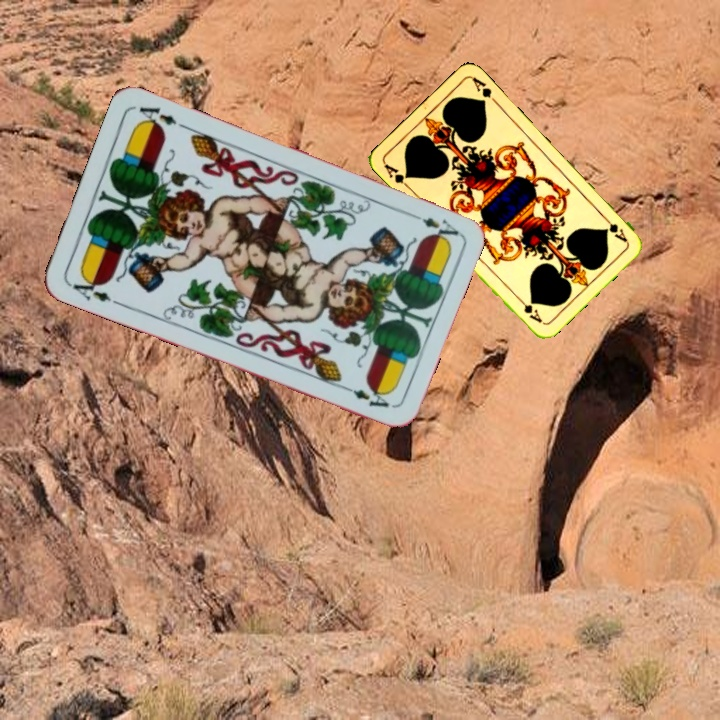EA: (404, 208, 461, 243), (66, 271, 114, 305)
GA: (598, 211, 630, 245), (380, 160, 413, 191)
